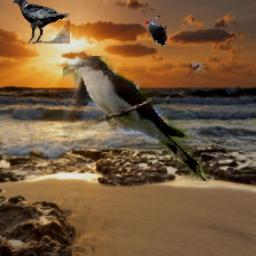Crow: (13, 0, 71, 44)
Cuckoo: (63, 56, 210, 181)
Woodpecker: (143, 17, 167, 47)
